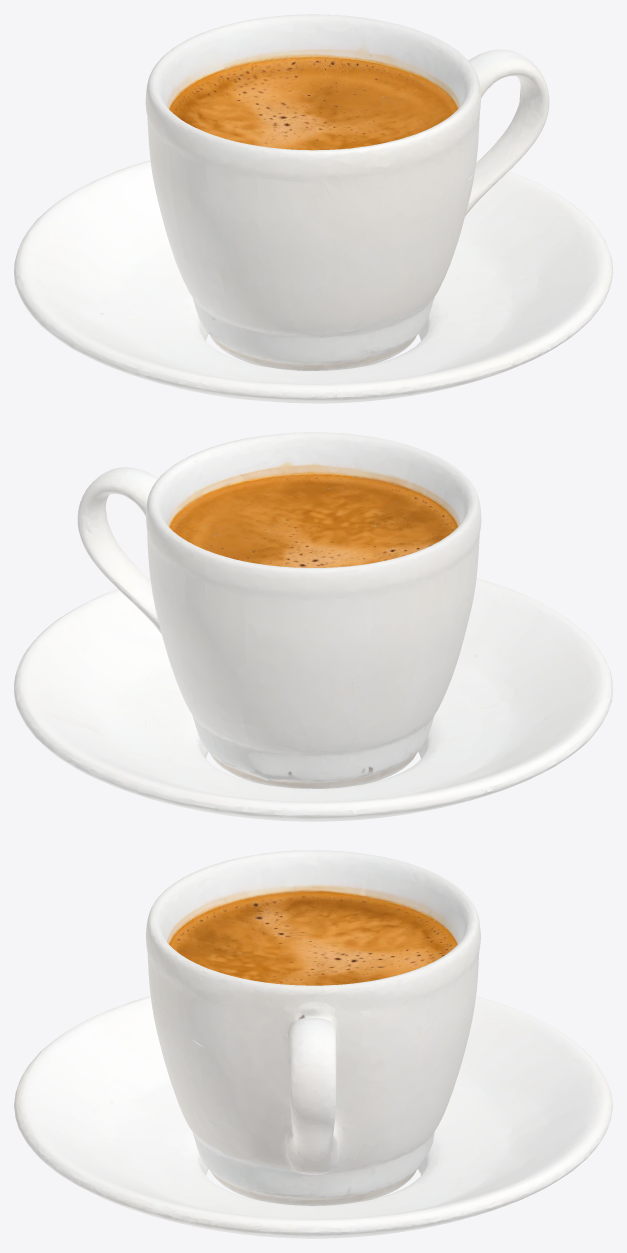
File: cup.glb
3 renders of one model, top to bottom at view 1: azimuth 30°, elevation 25°; view 2: azimuth 150°, elevation 25°; view 3: azimuth 270°, elevation 25°, orthographic.
Parts seen in each view (by area): view 1: Mesh_0; view 2: Mesh_0; view 3: Mesh_0.
Part boxes in pixels (<box>): Mesh_0: <box>14,14,612,403</box>; Mesh_0: <box>14,432,612,821</box>; Mesh_0: <box>14,850,612,1238</box>.
Size of the model in its own units: 1.9 by 0.9151 by 1.9.
Materials: 1 (1 with a texture image).
